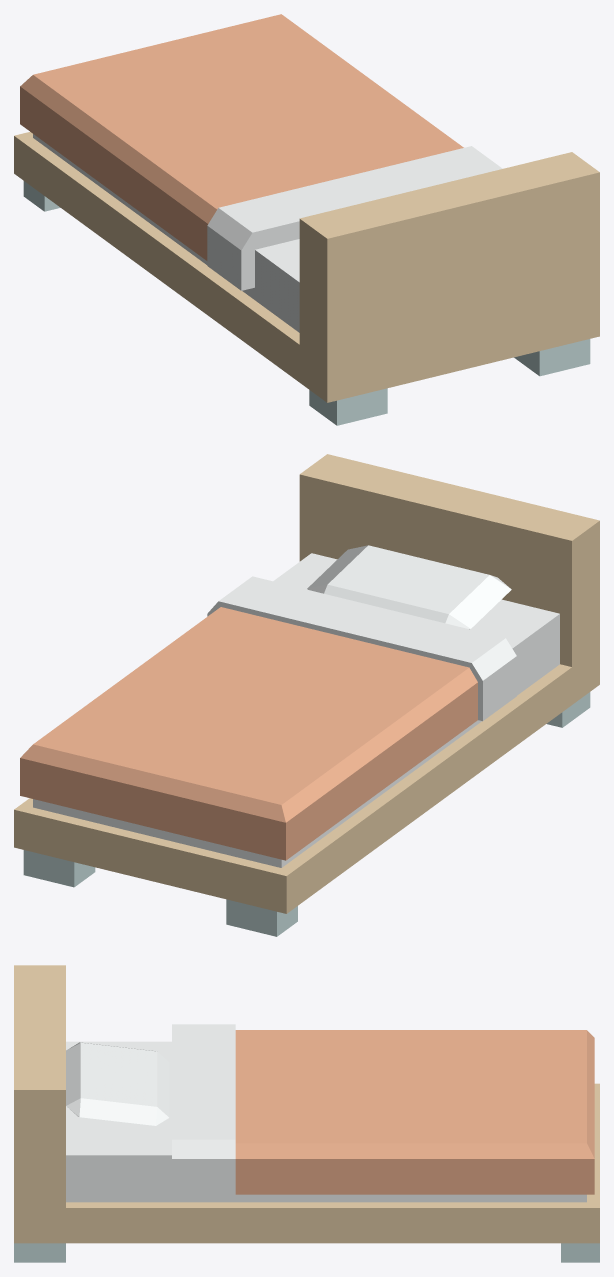
Rendered from bedSingle.glb.
3 renders of one model, top to bottom at view 1: azimuth 30°, elevation 25°; view 2: azimuth 150°, elevation 25°; view 3: azimuth 270°, elevation 25°, orthographic. The views are drawn at different scales.
Visible parts, largest first — view 1: bedSingle; view 2: bedSingle; view 3: bedSingle.
Boxes of the visible parts, x1,y1,x2,y2 form: bedSingle: (14, 14, 599, 425); bedSingle: (14, 454, 599, 936); bedSingle: (14, 965, 599, 1262).
Size of the model in its own units: 5.71 by 3.75 by 11.25.
